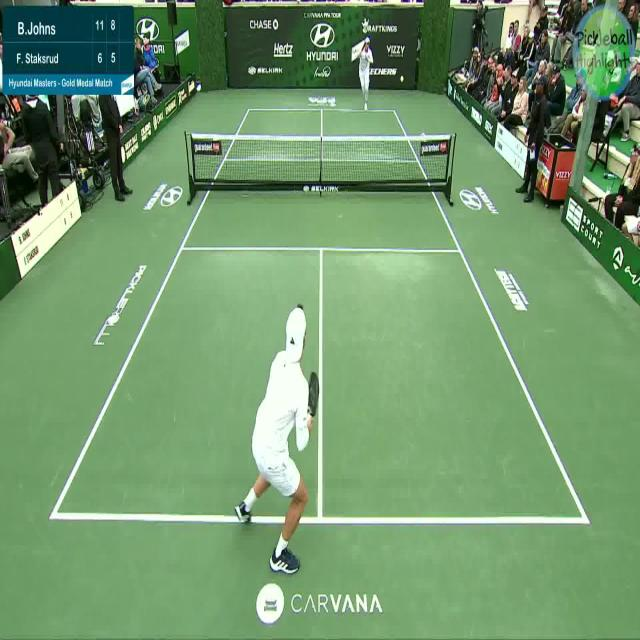ball: (397, 71, 408, 89)
